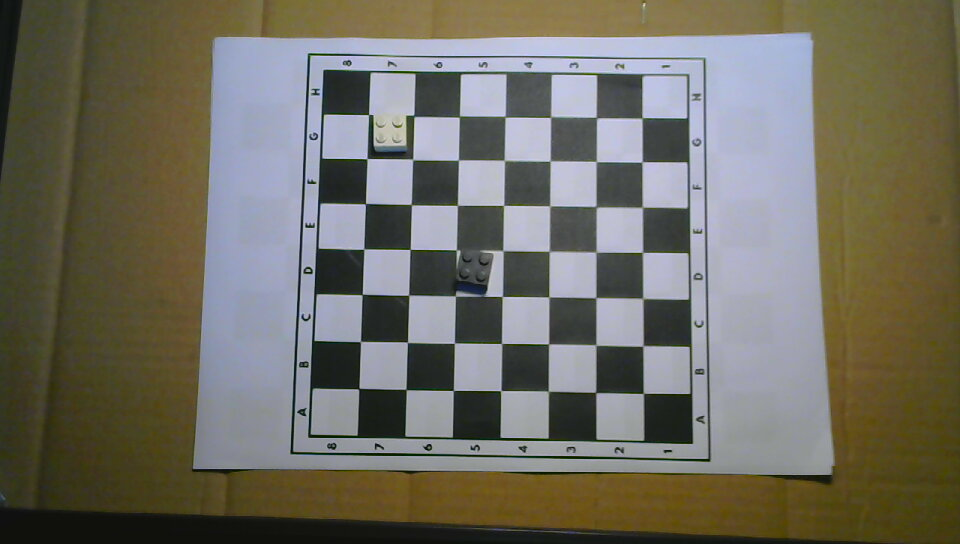bp: (454, 246, 494, 289)
wp: (371, 112, 408, 153)
